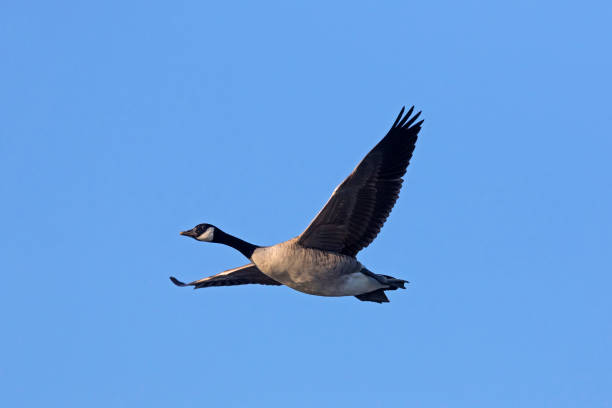goose: (165, 103, 426, 306)
